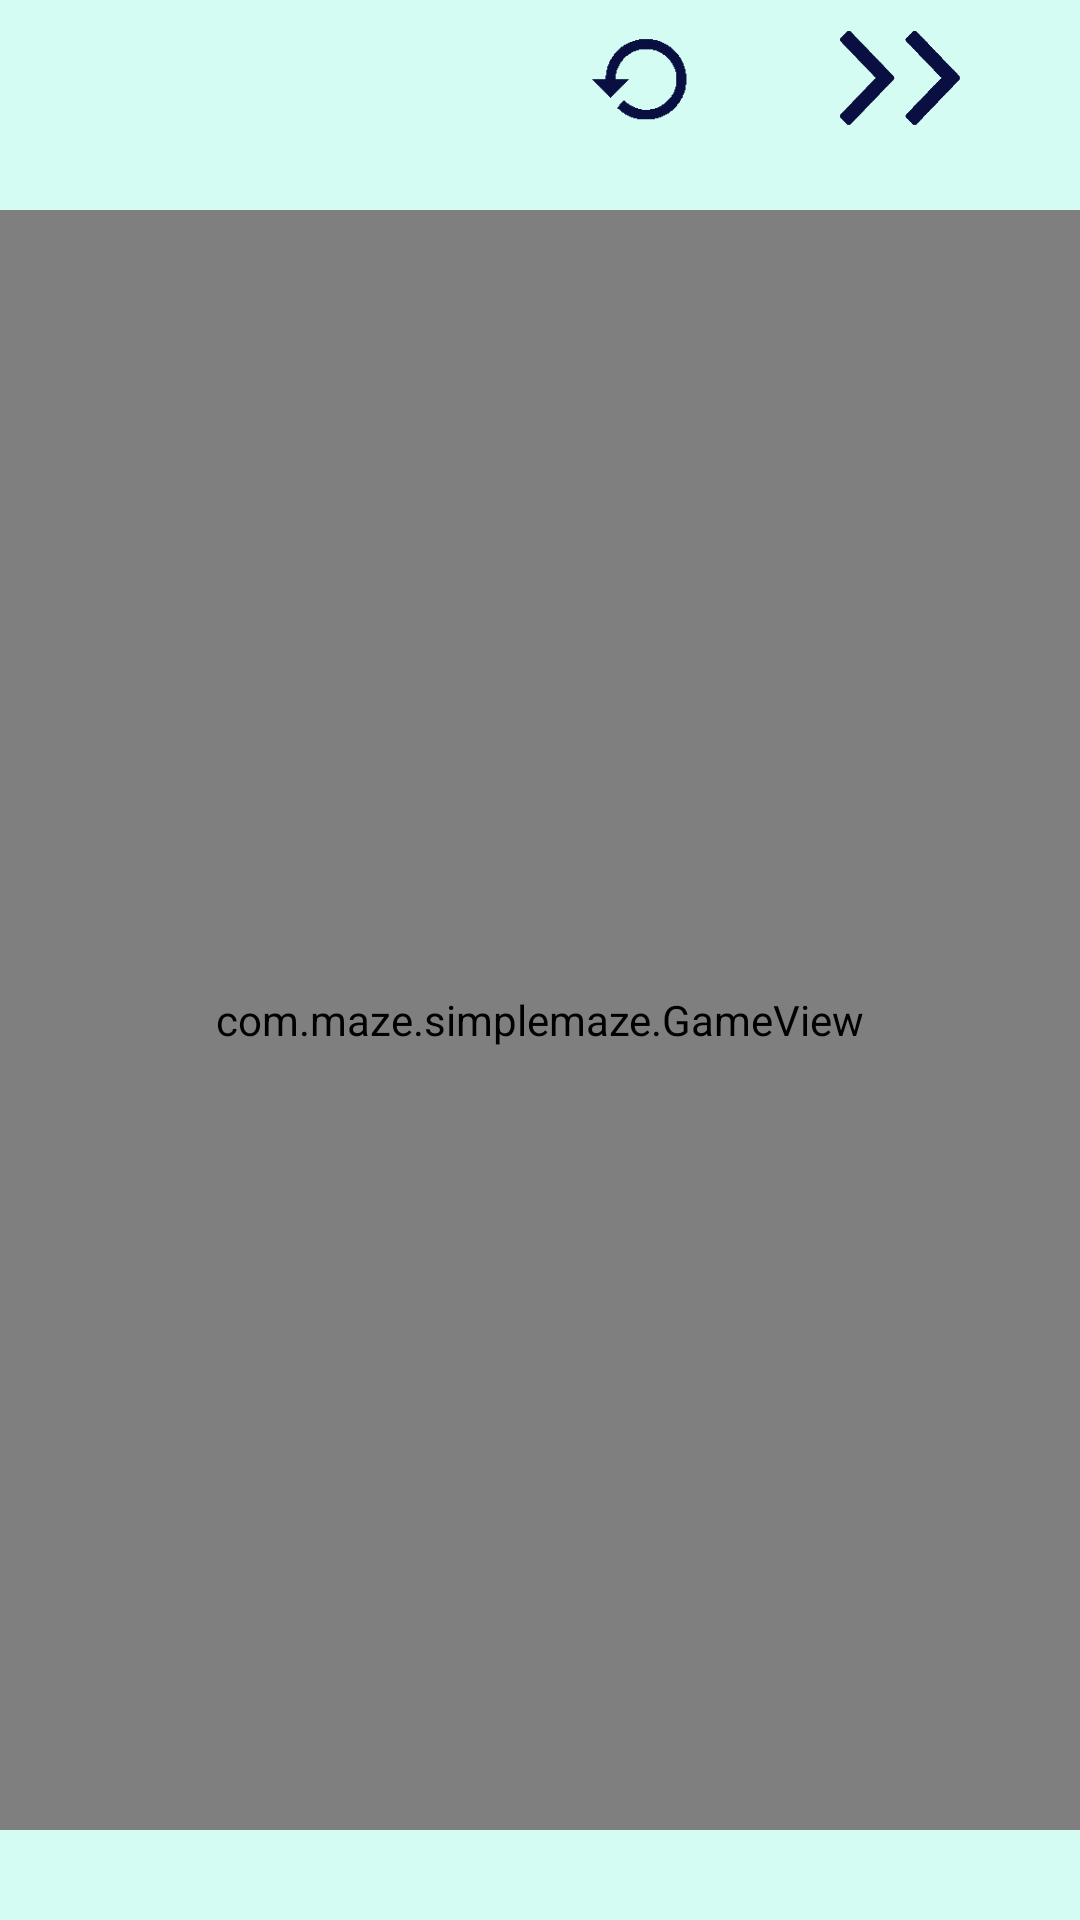

Named icons in this screenshot (1080px×1920px) and their centers, point (x, y):
replay: point (639, 79)
right arrow: point (900, 78)
